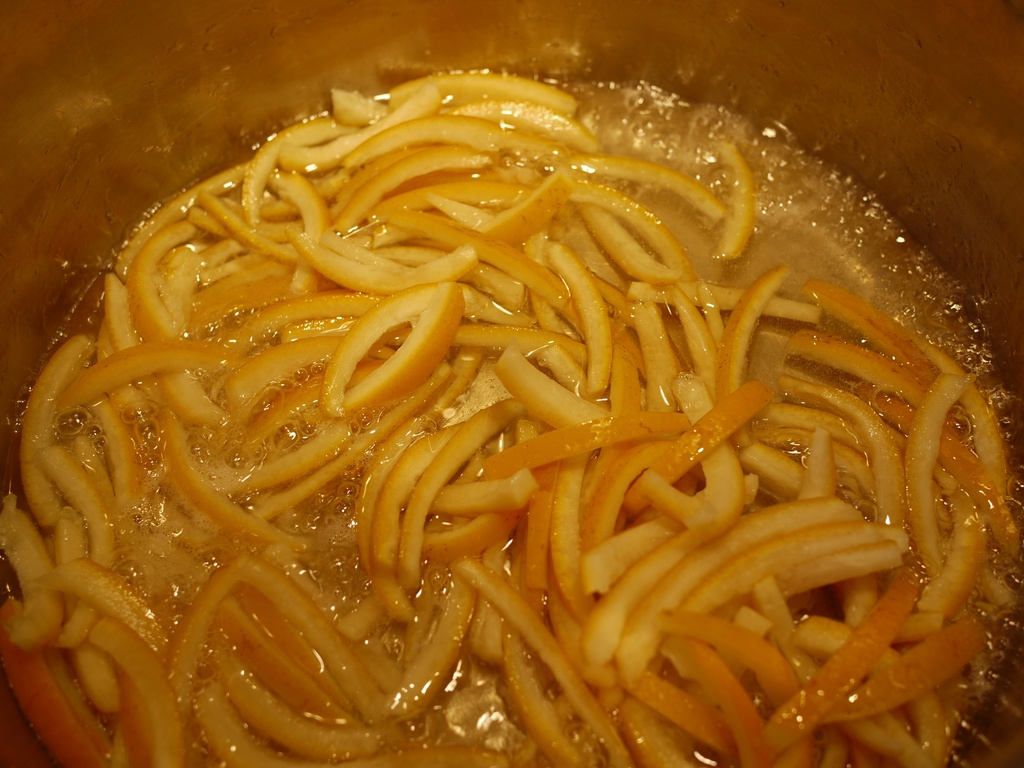French fries: (620, 499, 864, 678), (622, 502, 848, 672), (461, 551, 635, 767), (248, 558, 408, 752), (252, 370, 455, 518), (809, 278, 977, 439), (652, 606, 819, 765), (864, 387, 1022, 549), (790, 615, 947, 767), (211, 622, 388, 750), (158, 403, 304, 554), (403, 396, 520, 580), (170, 549, 267, 767), (0, 591, 119, 767), (616, 378, 764, 519), (780, 325, 961, 439), (470, 596, 588, 767), (213, 590, 355, 732), (672, 524, 896, 612), (808, 615, 986, 720), (232, 579, 363, 718), (339, 276, 463, 421), (752, 577, 843, 767), (502, 554, 583, 767), (584, 535, 716, 664), (649, 361, 744, 529), (352, 411, 429, 618), (336, 140, 499, 234), (897, 371, 972, 575), (117, 165, 258, 272), (433, 168, 561, 279), (49, 509, 119, 710), (478, 414, 691, 480), (385, 568, 475, 718), (60, 334, 233, 411), (668, 627, 762, 766), (476, 242, 593, 353), (382, 419, 464, 575), (618, 664, 744, 765), (93, 615, 175, 767), (196, 680, 336, 767), (711, 273, 776, 455), (24, 337, 90, 514), (920, 463, 992, 615), (577, 345, 644, 508), (294, 227, 474, 286), (0, 493, 64, 653), (237, 115, 332, 221), (218, 417, 357, 488), (572, 158, 726, 221), (481, 351, 590, 438), (225, 293, 384, 350), (389, 71, 579, 118), (262, 158, 328, 291), (550, 243, 604, 401), (766, 538, 908, 596), (191, 258, 307, 328), (336, 122, 501, 169), (511, 461, 561, 601), (138, 217, 196, 337), (584, 517, 671, 596), (553, 448, 590, 628), (93, 390, 140, 528), (196, 195, 286, 264), (773, 426, 869, 486), (61, 440, 126, 524), (453, 321, 588, 359), (331, 737, 497, 767), (714, 136, 752, 259), (632, 293, 670, 414), (312, 234, 434, 270), (639, 474, 712, 531), (266, 168, 328, 233), (777, 398, 856, 446), (746, 439, 801, 504), (801, 424, 837, 501), (50, 513, 96, 570), (191, 236, 240, 279)
